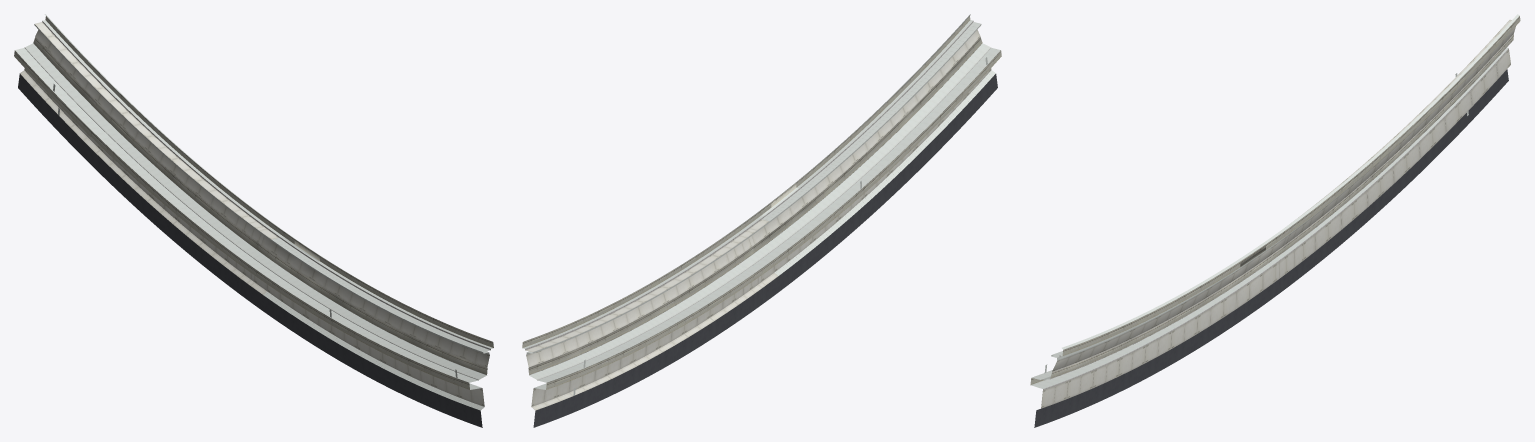
File: STA20_largesidetop.FBX
3 renders of one model, left to right at view 1: azimuth 30°, elevation 25°; view 2: azimuth 150°, elevation 25°; view 3: azimuth 330°, elevation 25°, orthographic. The views are drawn at different scales.
Parts seen in each view (by area): view 1: STA20_largesidetop; view 2: STA20_largesidetop; view 3: STA20_largesidetop.
Part boxes in pixels (x1,y1,x2,y2): STA20_largesidetop: (14, 14, 493, 427); STA20_largesidetop: (522, 14, 1001, 427); STA20_largesidetop: (1030, 14, 1520, 427).
Bounding box in the file's own units: 48.38 × 201 × 1409.
